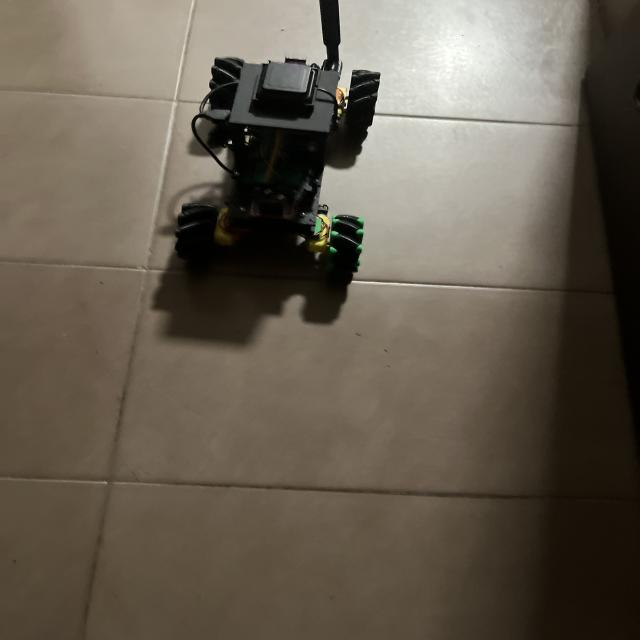robot: (175, 0, 379, 280)
